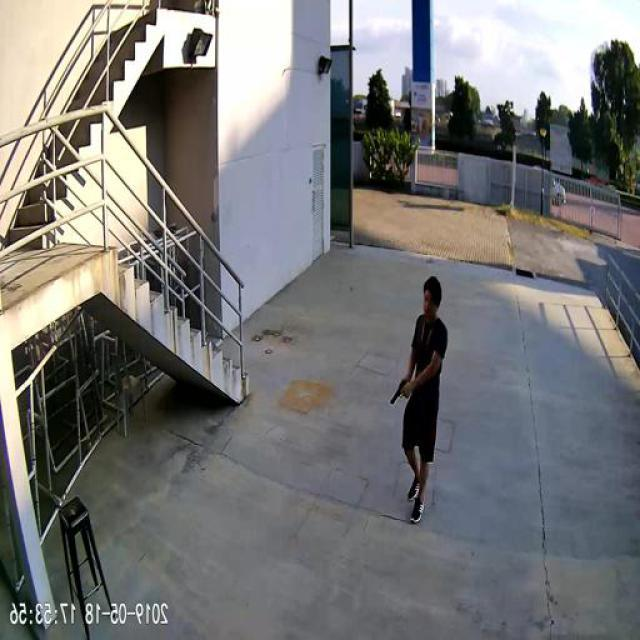Gun: (391, 376, 409, 404)
